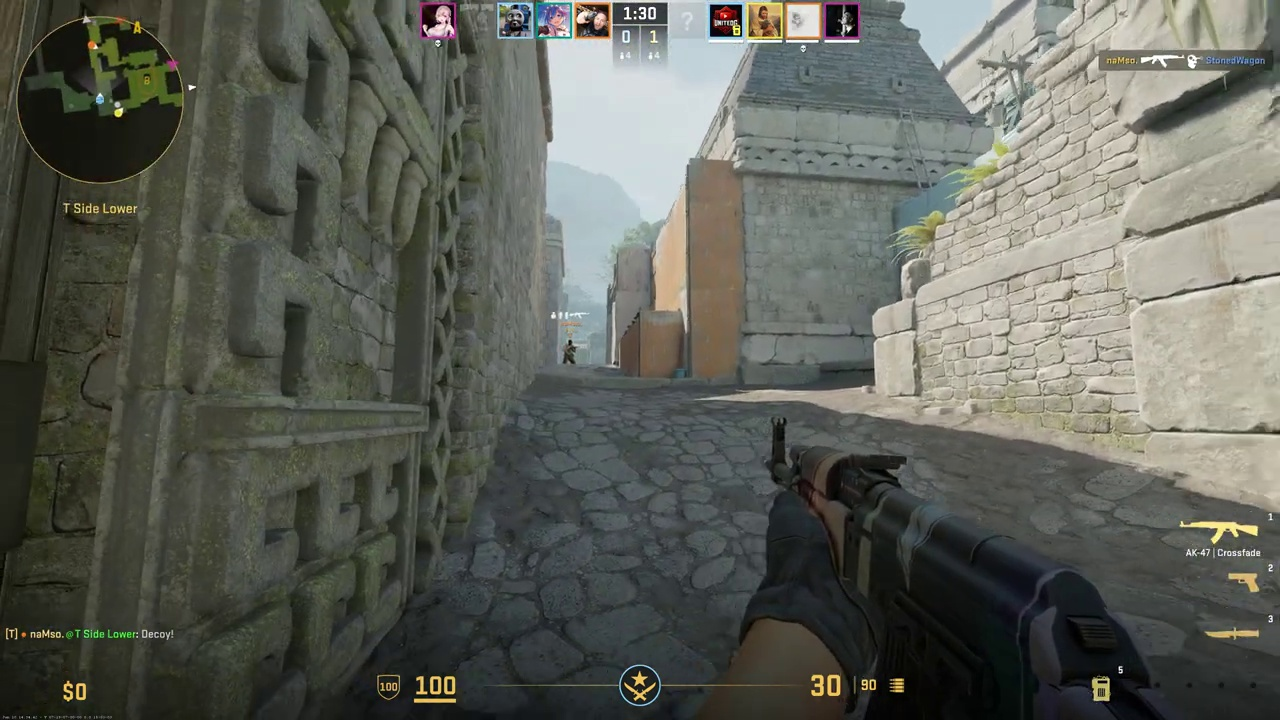Terrorist: (563, 340, 576, 363)
